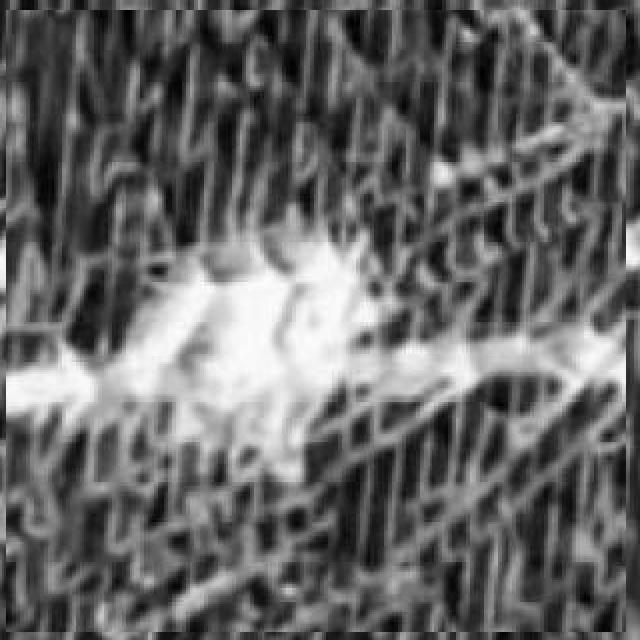Physical-damage: (6, 10, 626, 632)
